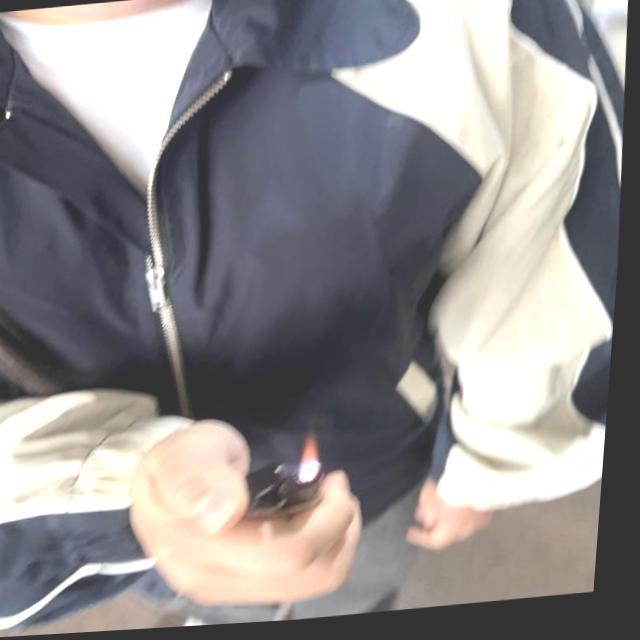Fire: (300, 433, 331, 488)
